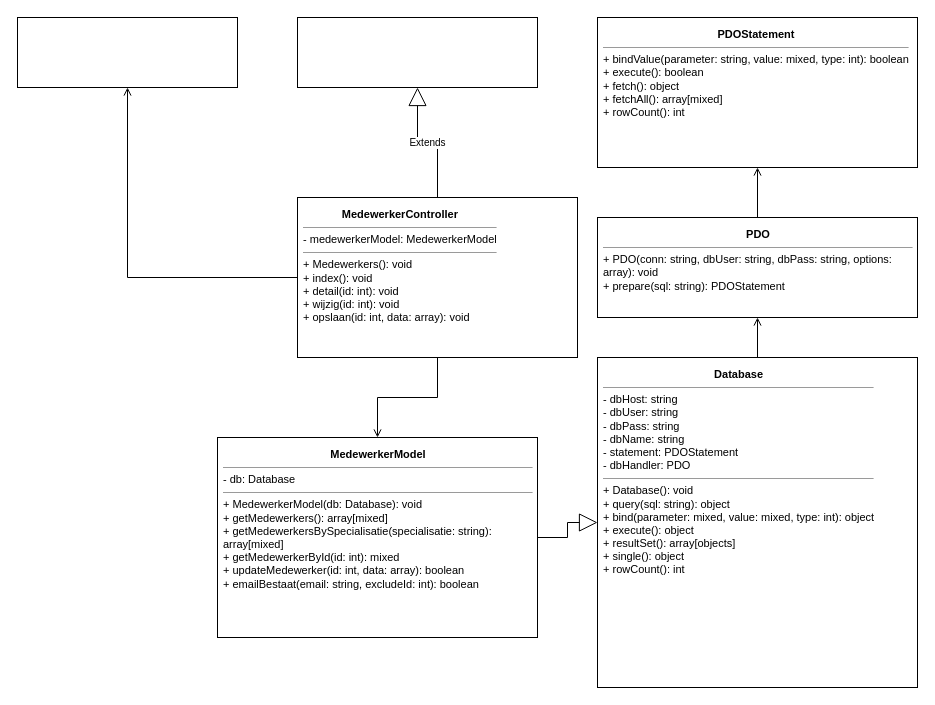
Image size: 935x705. Some labels were removed from this diagram. The shapes that lost their labels are listed below. From the top down, each one's centre as x and y in pixels, then its label:
At (x=127, y=52): "MedewerkerView + data: array[mixed]".
At (x=417, y=52): "BaseController # model(string): object # view(string, array): void".
